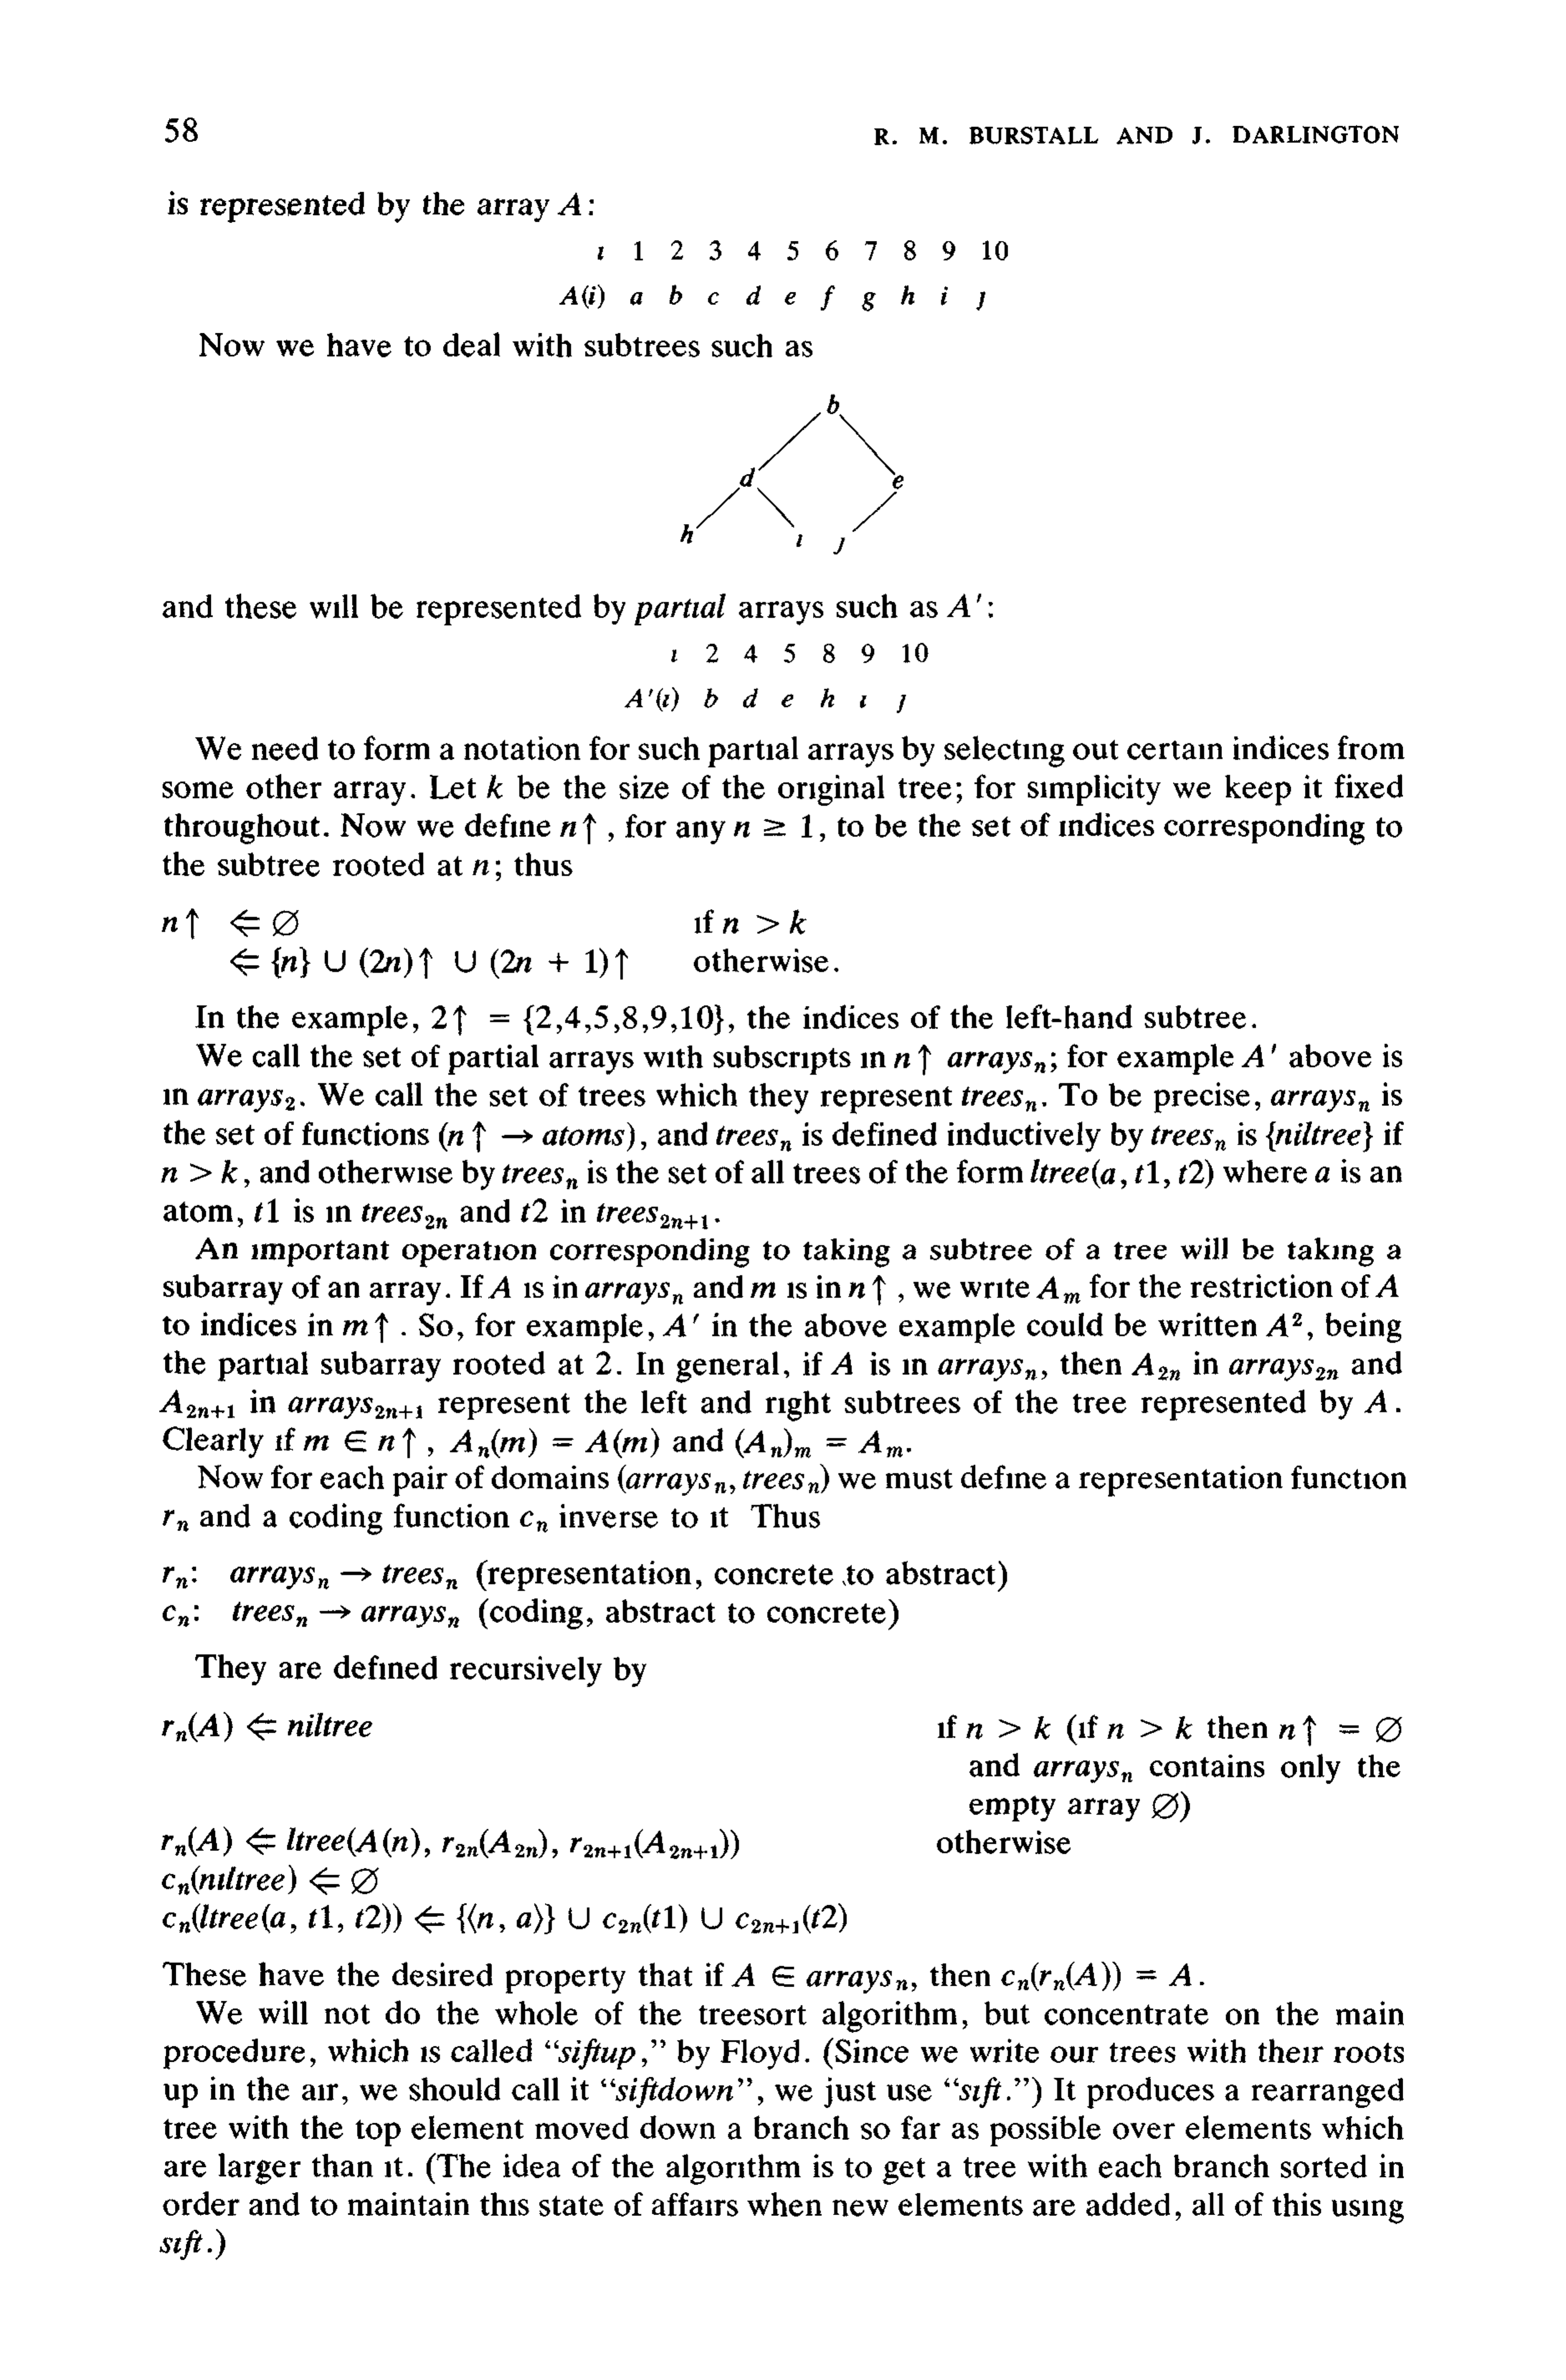maths: (288, 1712, 1050, 1746), (163, 1903, 846, 1934), (161, 1826, 739, 1859), (231, 947, 627, 980), (598, 241, 1008, 260), (619, 1464, 828, 1496), (163, 1865, 379, 1894), (524, 1005, 724, 1036), (451, 1428, 659, 1457), (232, 1602, 460, 1629), (439, 1122, 634, 1152), (1031, 1159, 1213, 1190), (231, 1564, 458, 1588), (1001, 1962, 1192, 1990), (731, 1964, 907, 1994), (671, 643, 928, 662), (736, 1428, 902, 1457), (1279, 1716, 1402, 1746), (615, 2078, 732, 2107), (163, 1712, 276, 1742), (304, 1428, 416, 1457), (288, 1396, 423, 1419), (598, 1204, 708, 1228), (432, 1005, 509, 1036), (197, 1089, 295, 1113), (1229, 1360, 1339, 1380), (559, 2039, 636, 2069), (1033, 1760, 1133, 1782), (947, 1052, 1045, 1075), (1271, 1090, 1369, 1113), (724, 909, 806, 935), (159, 1389, 234, 1417), (1276, 1122, 1362, 1146), (362, 1204, 447, 1228), (586, 1283, 683, 1304), (939, 1360, 1036, 1380), (717, 1125, 792, 1152), (503, 1164, 579, 1190), (1106, 1716, 1192, 1739), (1152, 1125, 1225, 1152), (231, 909, 299, 937), (961, 1087, 1036, 1111), (734, 814, 813, 837), (161, 1160, 238, 1183), (1131, 1353, 1180, 1380), (343, 1312, 388, 1342), (624, 687, 678, 711), (159, 2230, 203, 2259), (960, 2078, 1001, 2107), (1036, 1276, 1080, 1304), (163, 909, 199, 940), (895, 1045, 932, 1076), (848, 1276, 886, 1305), (559, 285, 605, 309), (561, 813, 596, 844), (1265, 1312, 1302, 1337), (1241, 1043, 1276, 1068), (662, 1314, 699, 1337), (947, 594, 980, 617), (1152, 1793, 1178, 1819), (521, 1199, 547, 1223), (255, 1199, 280, 1223), (558, 192, 582, 215), (1375, 1274, 1398, 1298), (1365, 1389, 1388, 1414), (163, 1510, 189, 1531), (521, 1512, 547, 1532), (163, 1606, 189, 1627), (488, 1276, 510, 1298), (830, 1353, 853, 1375), (163, 1567, 187, 1588), (750, 1283, 776, 1298), (488, 774, 503, 799), (821, 285, 835, 311), (374, 2153, 385, 2184), (743, 688, 759, 708), (746, 285, 760, 306), (472, 860, 489, 875), (862, 292, 876, 311), (900, 285, 914, 304), (704, 688, 718, 708), (1314, 1167, 1330, 1183), (669, 285, 682, 304), (821, 688, 834, 708), (975, 292, 986, 311), (631, 292, 643, 306), (781, 694, 793, 708), (897, 695, 905, 713), (940, 287, 947, 306), (708, 292, 718, 304), (785, 292, 795, 304), (860, 695, 867, 708)
